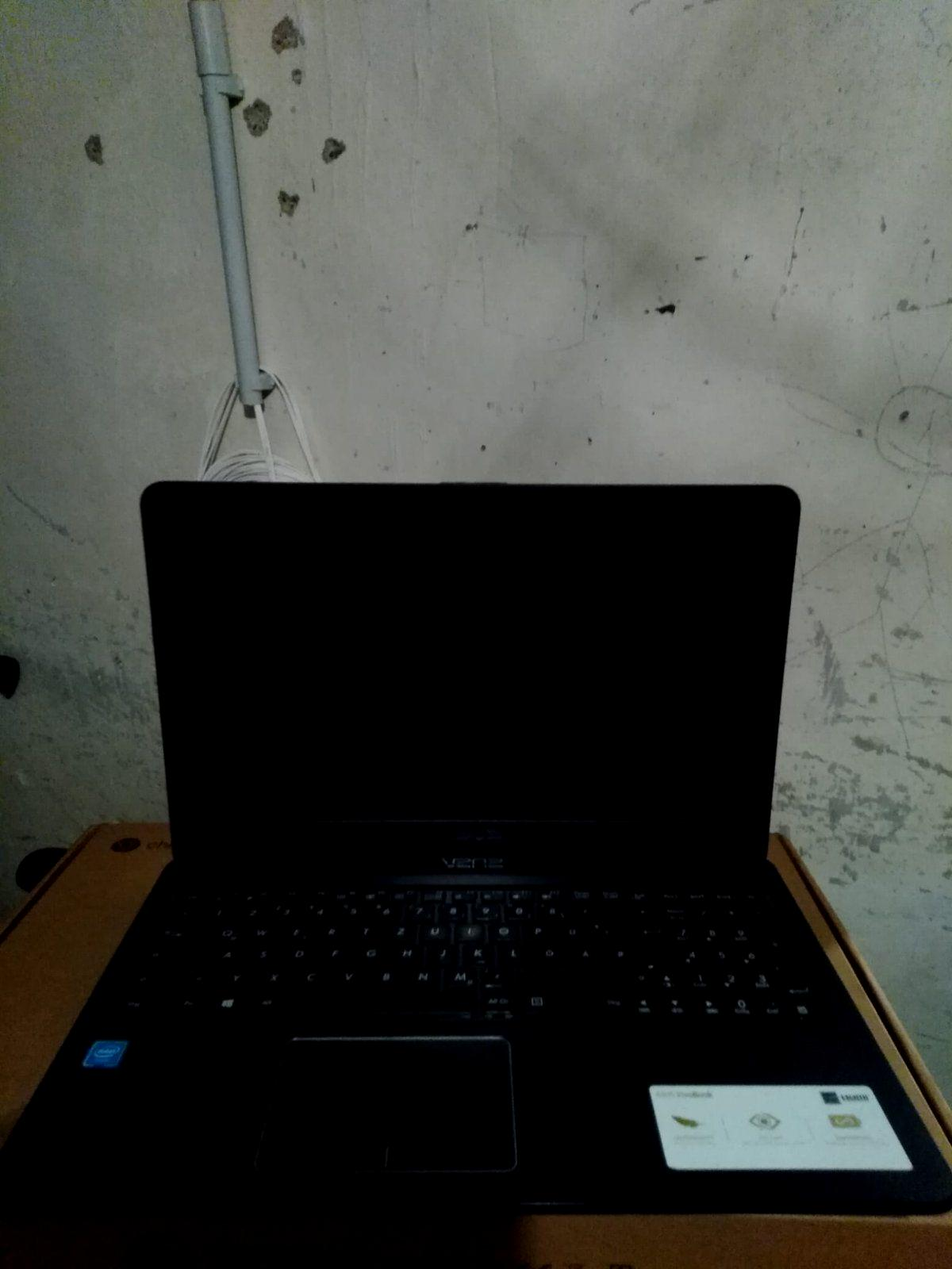keyboard: (114, 872, 835, 1032)
